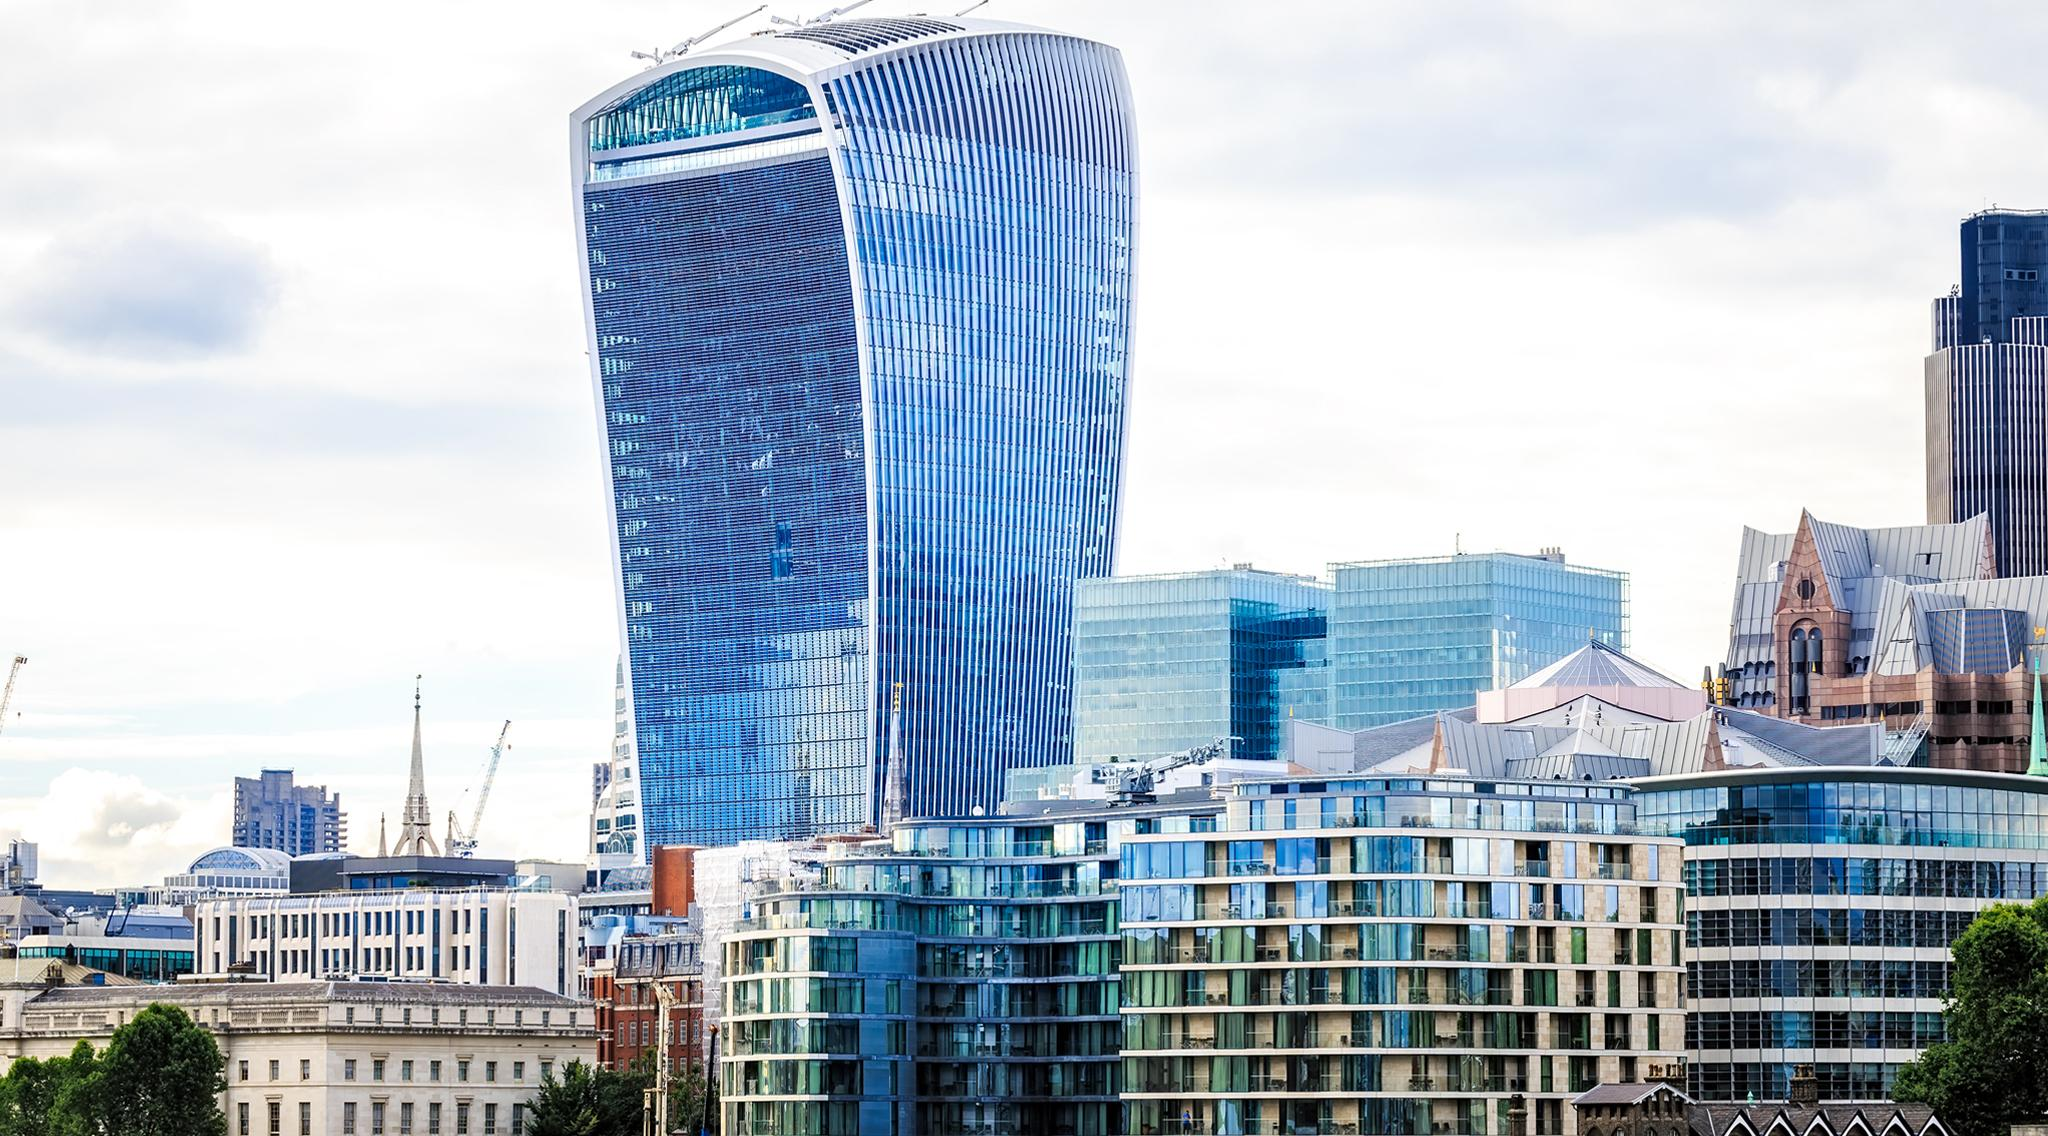Walkie talkie: (536, 13, 1140, 837)
